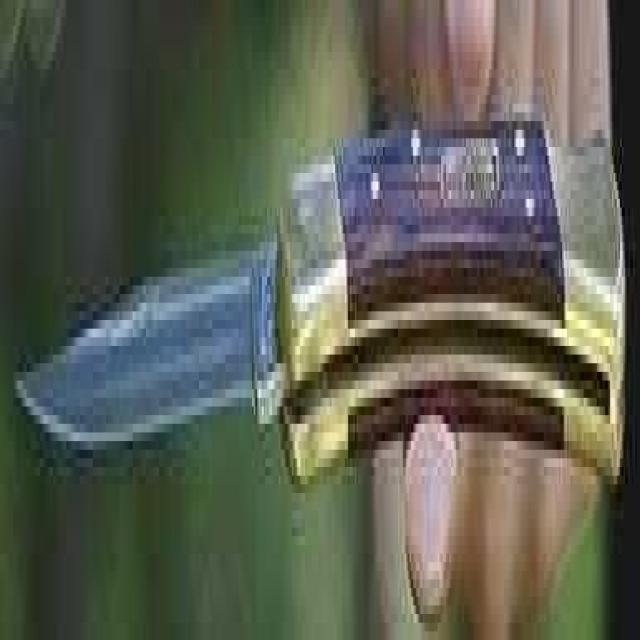knife: (12, 93, 629, 506)
